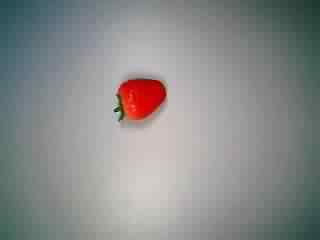strawberry: (105, 64, 173, 128)
